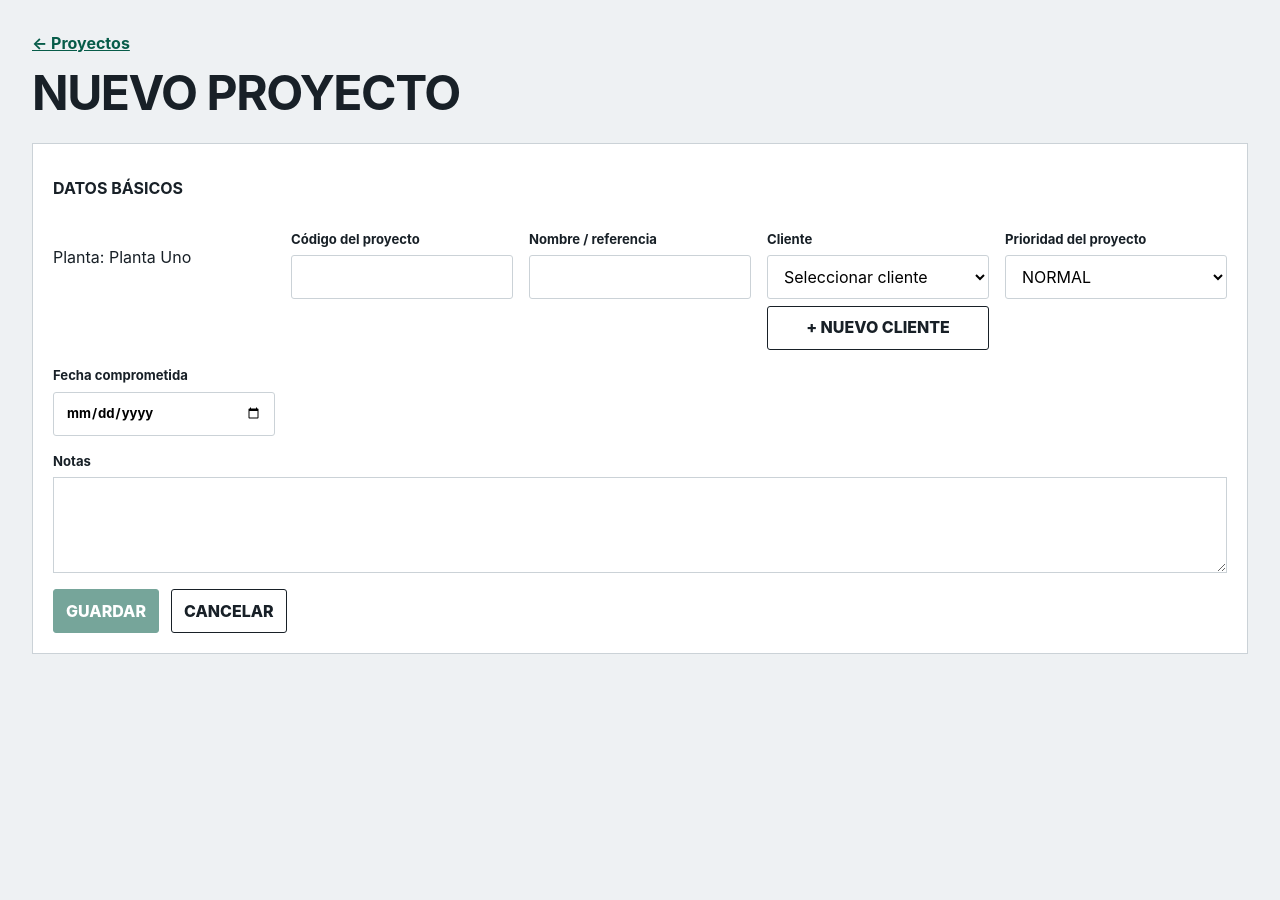
Test: permite usar el cliente coincidente sin enviar un alta duplicada
The image size is (1280, 900).
Click the button "+ NUEVO CLIENTE": (878, 328) [767,306,989,350]
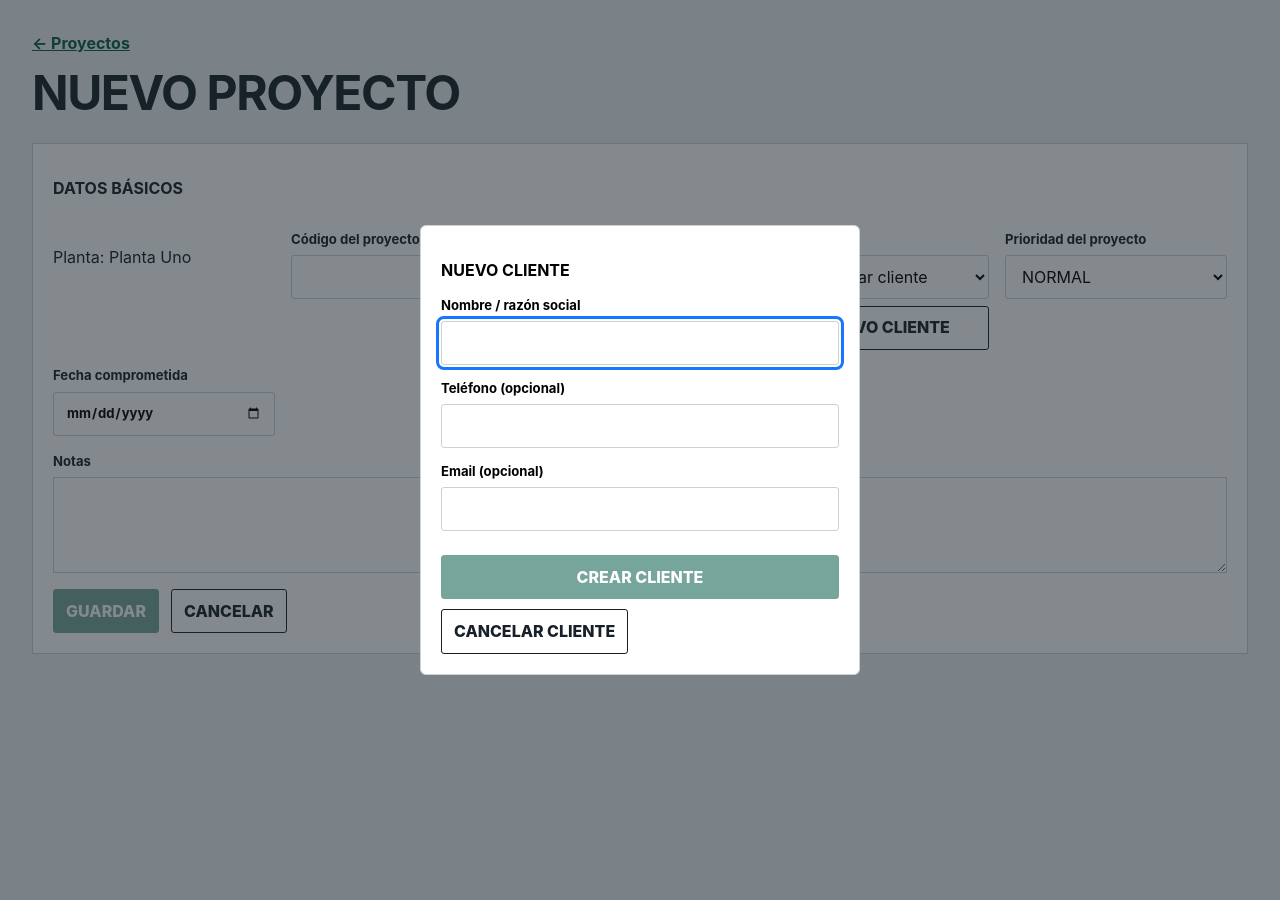
In the field labelled "Nombre / razón social": (640, 343) [441,321,839,365], type "nico del"
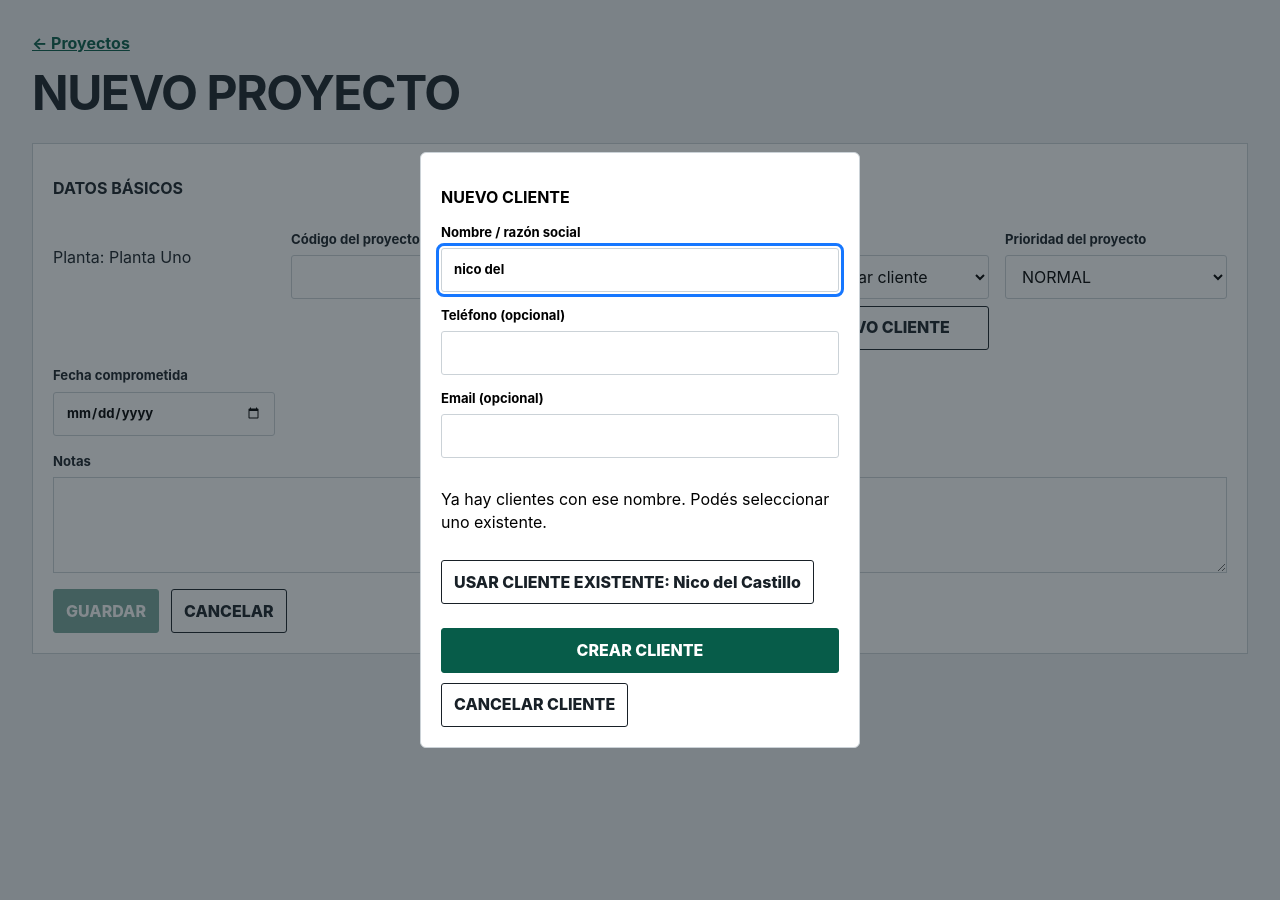
Click the button "USAR CLIENTE EXISTENTE: Nico del Castillo": (628, 582) [441,560,814,604]
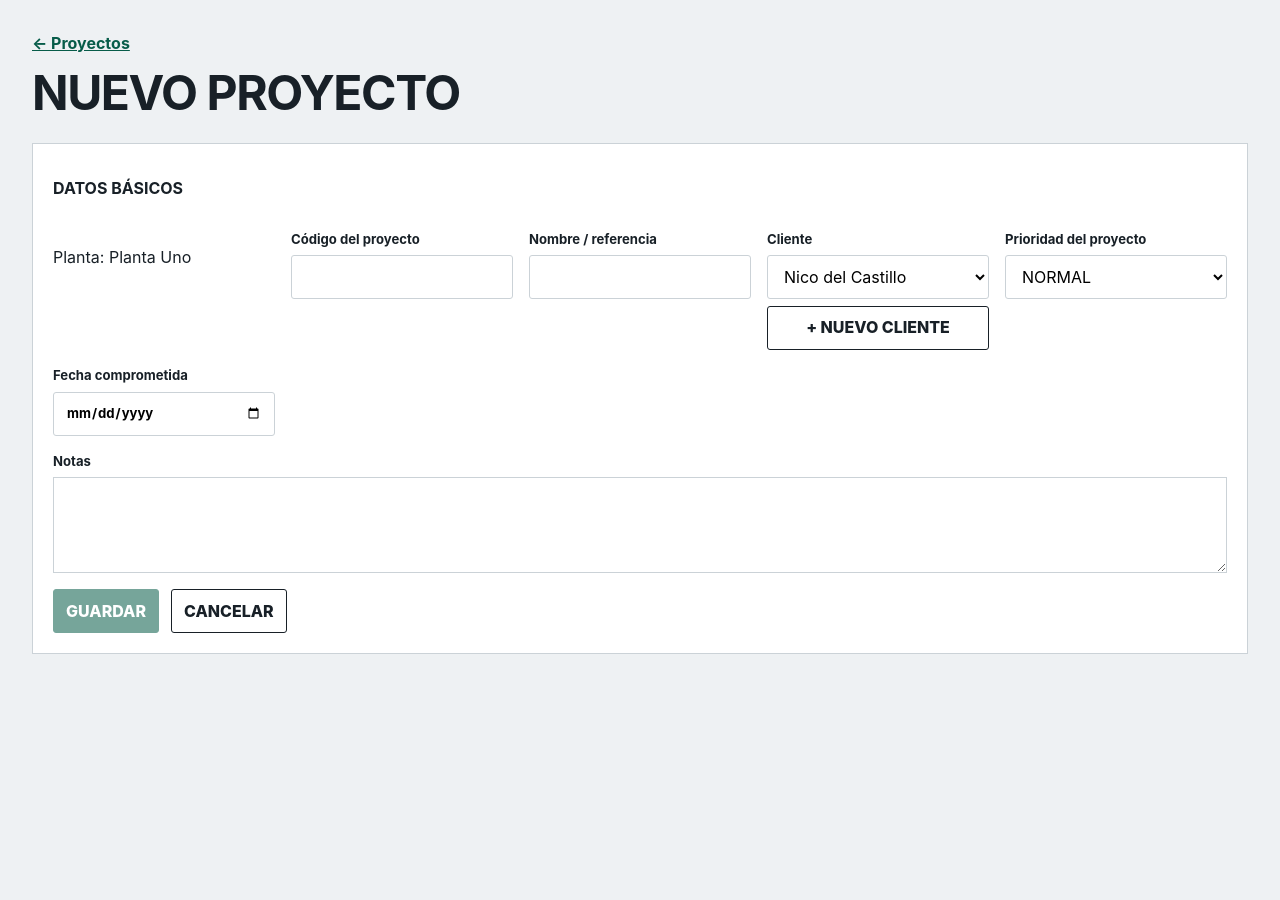
Check: the dialog is gone
Check: the dropdown labelled "Cliente" shows "Nico del Castillo", box [767,255,989,299]
